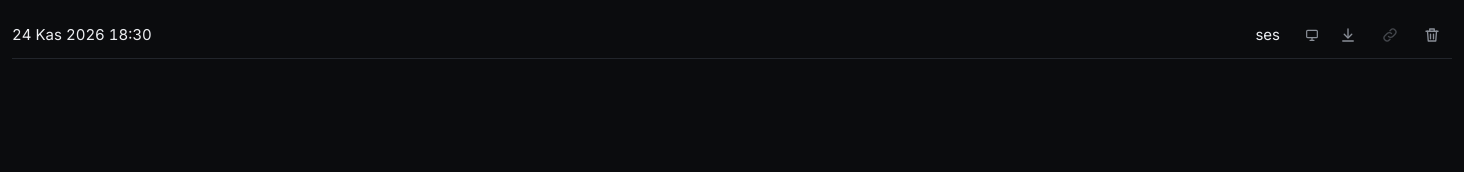
it: Sil › local-only row on a connected computer keeps the plain question
Click the button named "Sil": [1432, 35] box top-left (1412, 15), bottom-right (1452, 55)
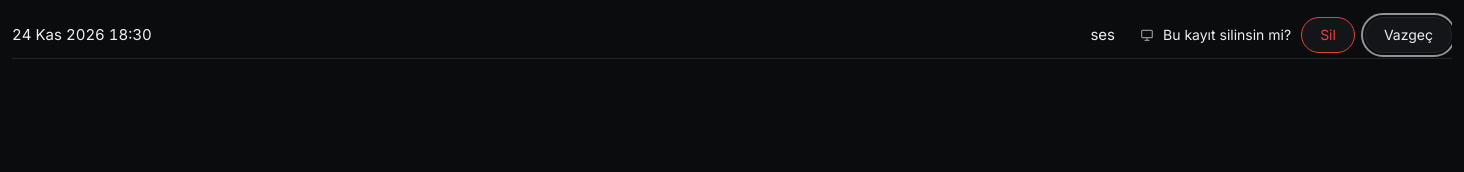
Expected: the element named "Silme onayı" shows "Bu kayıt silinsin mi?", top-left (1163, 26), bottom-right (1291, 43)
